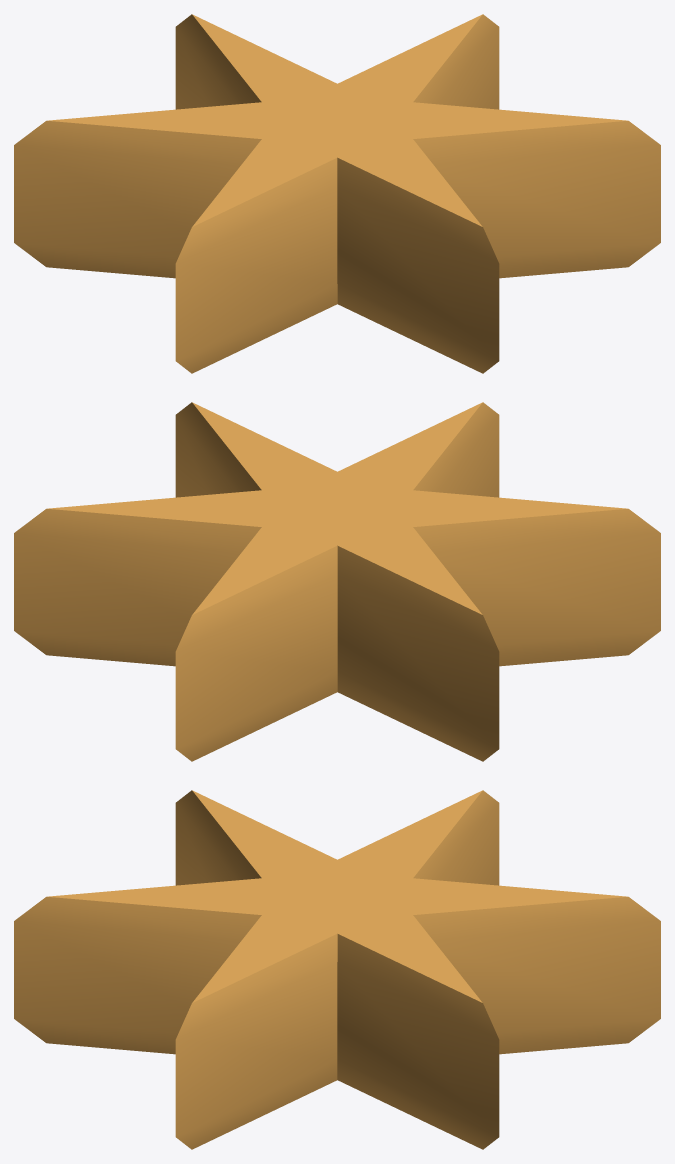
File: Star_6P_01.fbx
The picture shows the model from 3 angles, top to bottom: view 1: azimuth 30°, elevation 25°; view 2: azimuth 150°, elevation 25°; view 3: azimuth 270°, elevation 25°; orthographic projection.
Parts seen in each view (by area): view 1: Star_6P_01; view 2: Star_6P_01; view 3: Star_6P_01.
Part boxes in pixels (x1=…): Star_6P_01: x1=14, y1=14, x2=660, y2=373; Star_6P_01: x1=14, y1=402, x2=660, y2=761; Star_6P_01: x1=14, y1=790, x2=660, y2=1149.
Size of the model in its own units: 346 by 100 by 400.
